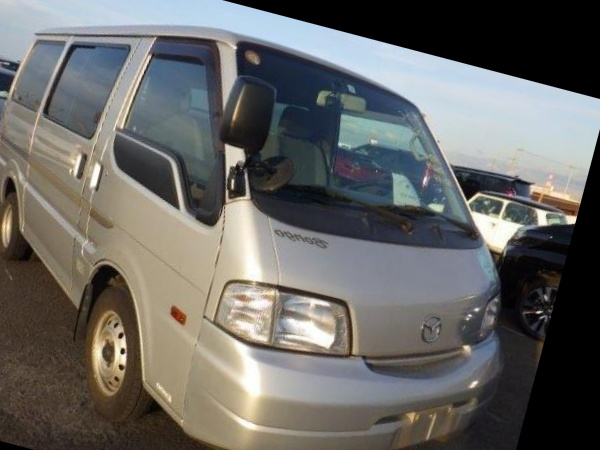van: (0, 0, 557, 450)
